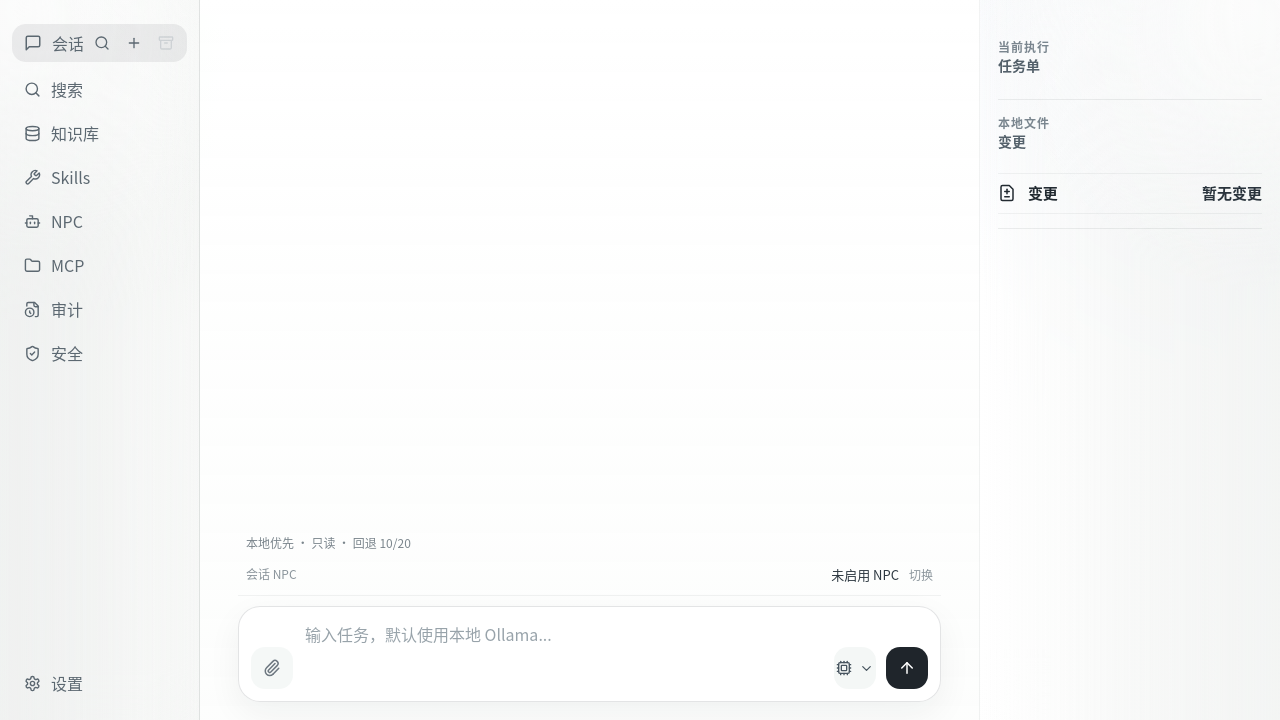
App › uses the selected NPC model and persona context for ordinary chat
The width and height of the screenshot is (1280, 720).
Expected: the text "未启用 NPC" is shown, [831,565,899,584]
Step 1. Click the button with aria-label "会话 NPC" → point(882, 574), box [831,565,933,584]
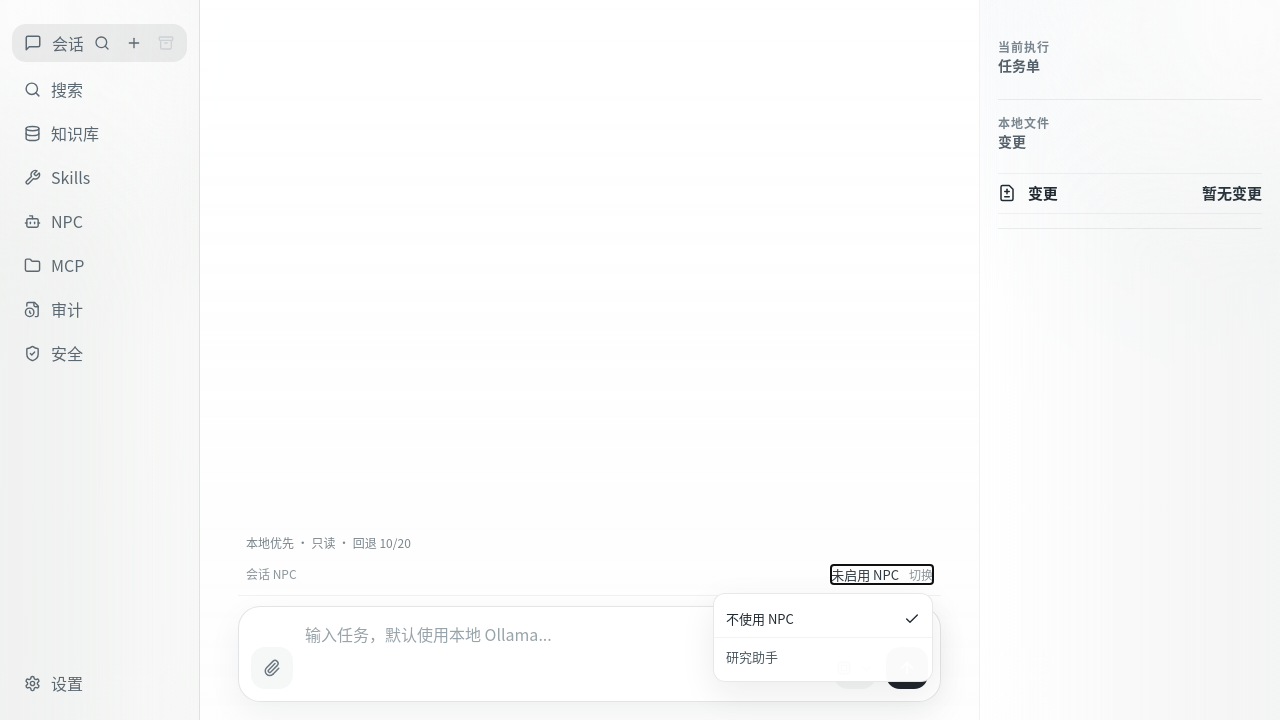
Step 2. Click the menu item "研究助手" → point(823, 656), box [714,637,932,675]
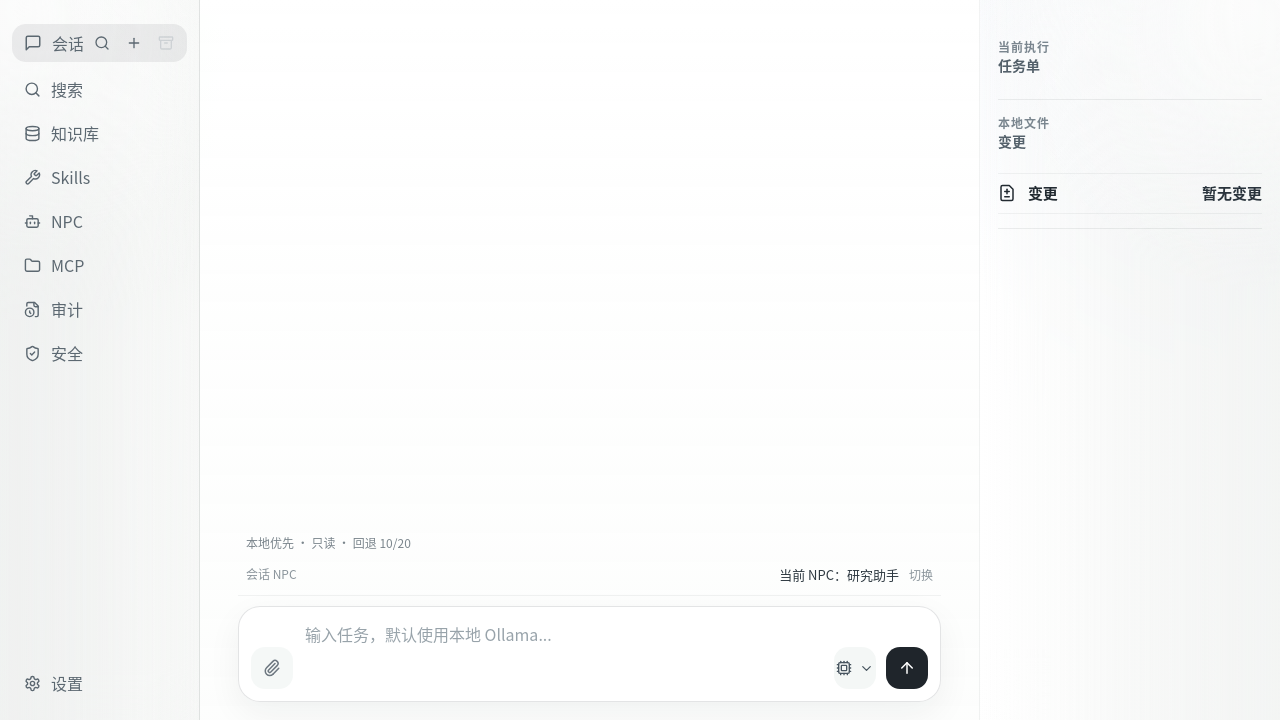
Expected: the text "当前 NPC：研究助手" is shown, [779,565,899,584]
Step 3. Type "帮我整理一下这段说明" into the text box labelled "输入任务" → point(562, 654), box [303,619,822,689]
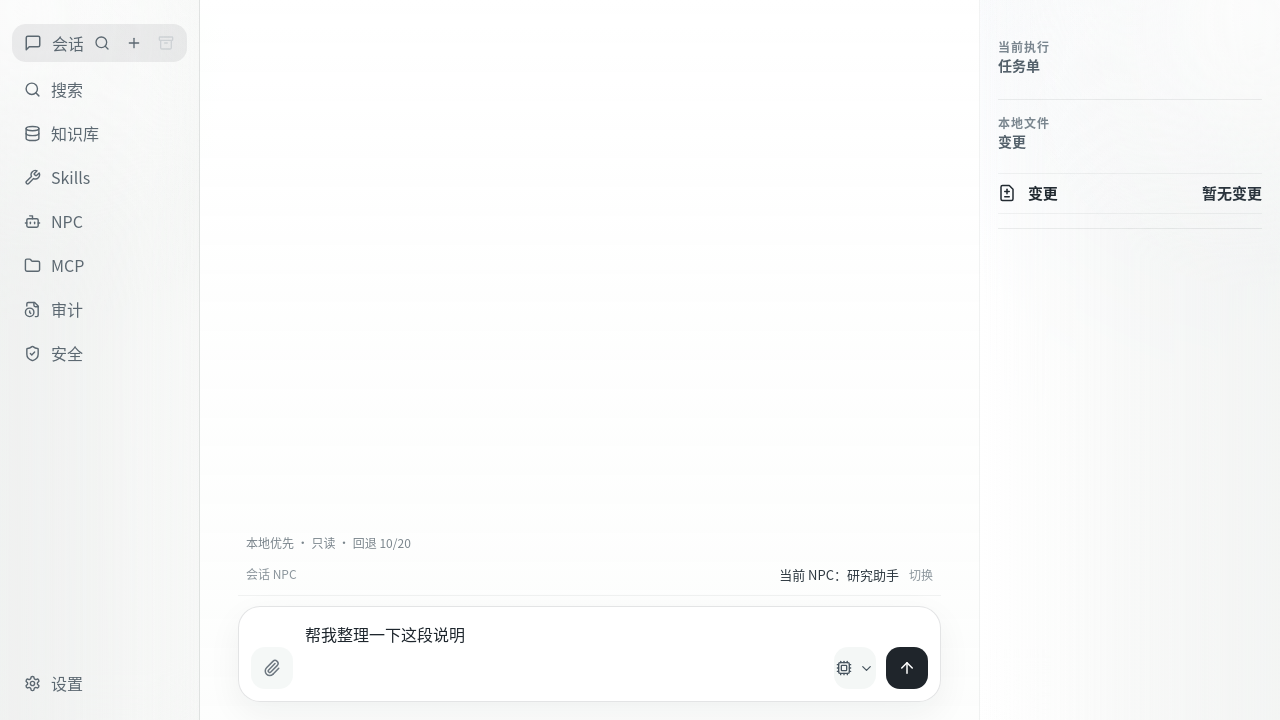
Step 4. Click the button named "发送" → point(907, 668), box [886,647,928,689]
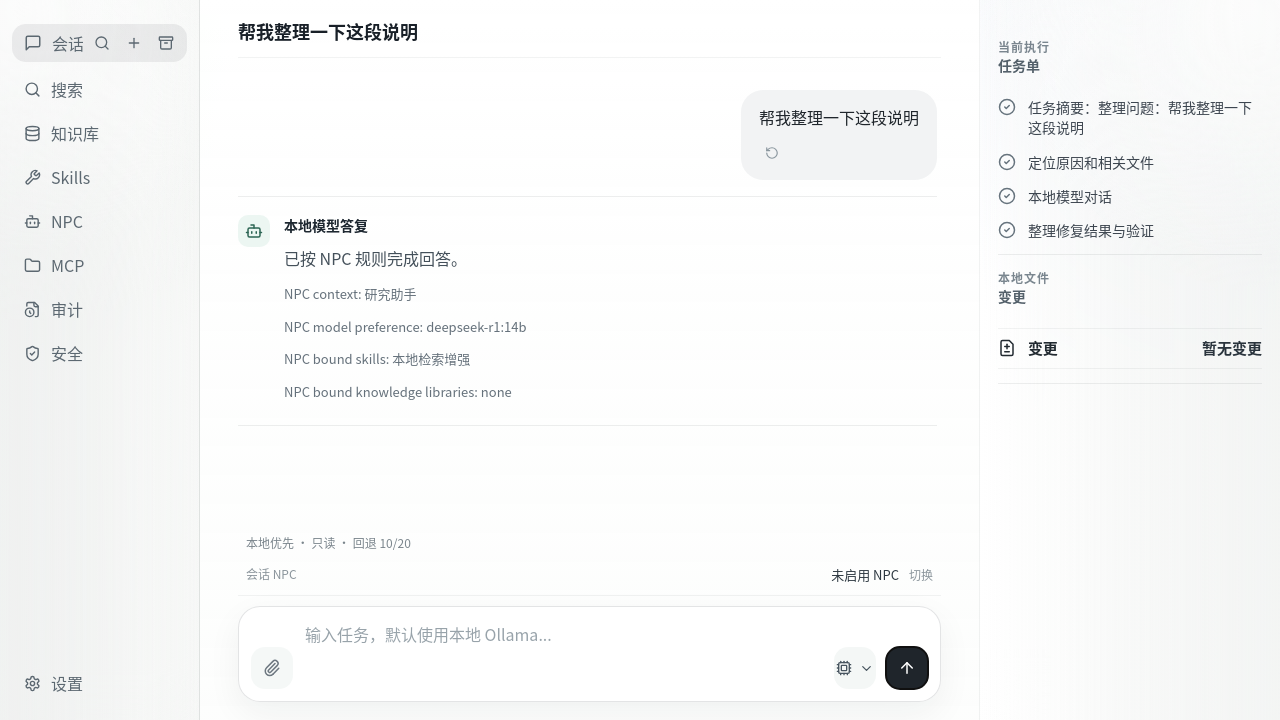
Expected: the text "已按 NPC 规则完成回答。" is shown, [284,246,467,270]
